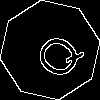Q: (25, 25, 87, 85)
